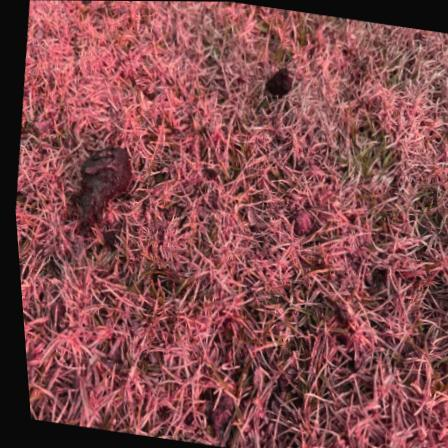dog-poop: (59, 134, 140, 238), (257, 59, 300, 99)
